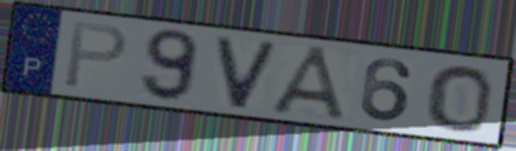6: (360, 56, 414, 124)
9: (137, 27, 202, 104)
A: (266, 43, 353, 124)
O: (425, 62, 495, 134)
P: (60, 19, 130, 91)
V: (213, 34, 282, 112)
